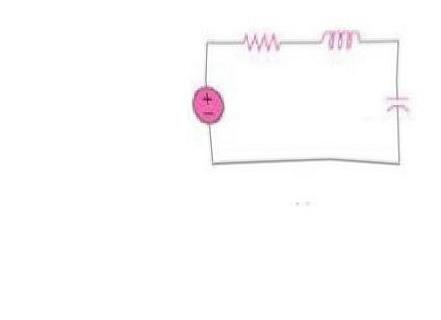Battery: (182, 79, 234, 128)
